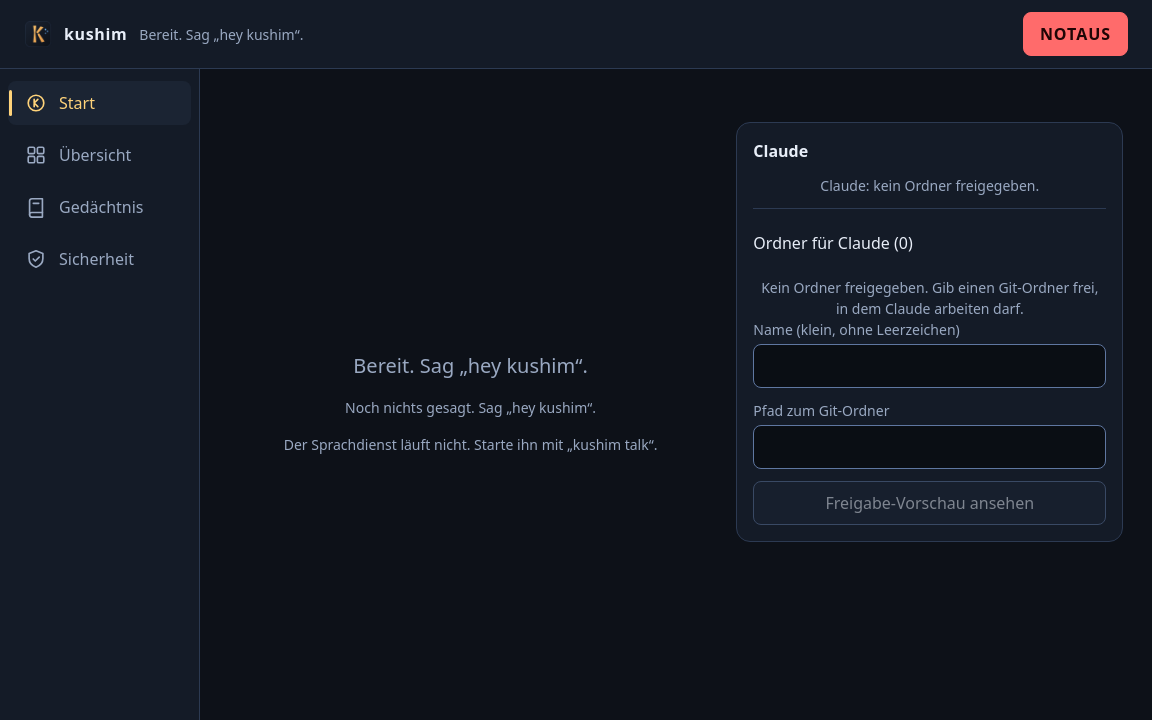
Scenario: Sicherheitsstatus › zeigt jeden Punkt mit Wort: Modus A, Geldlimit 0, Notaus bereit, Sicherung
This screenshot has width=1152, height=720.
Click the button "Sicherheit": click(100, 259) [8, 237, 191, 281]
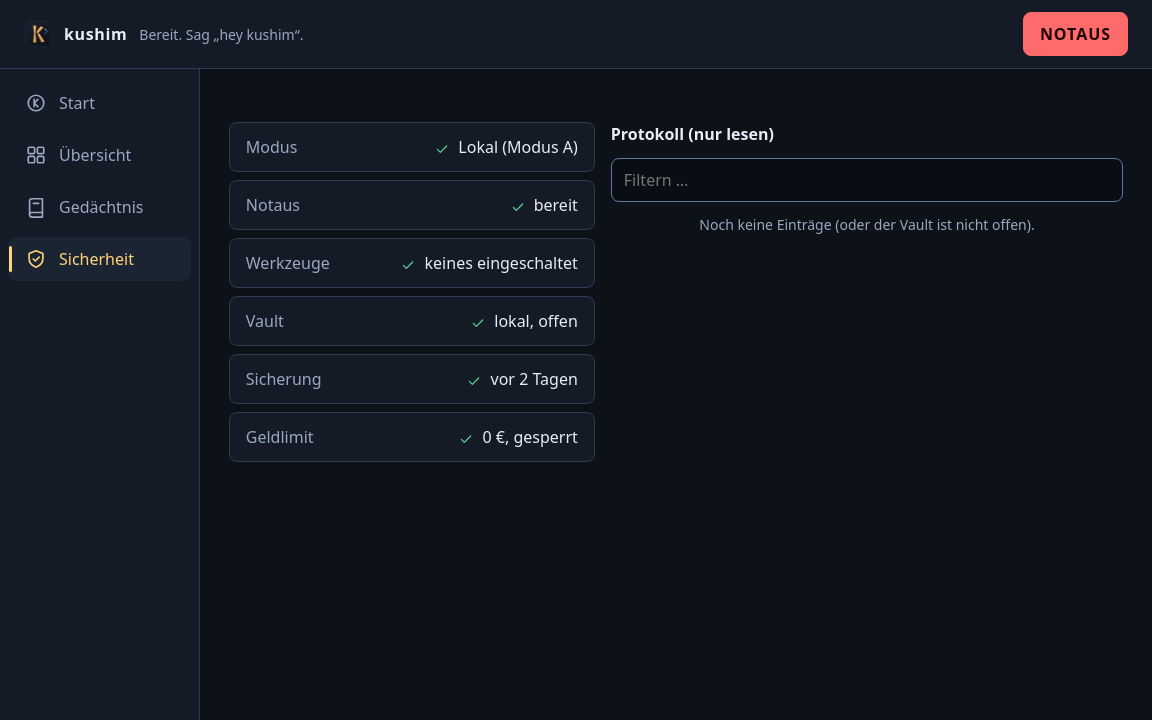
Result: the element named "Sicherheitsstatus" is shown at [229, 122, 1123, 462]
Result: the text "Lokal (Modus A)" is shown at [434, 135, 578, 159]
Result: the text "0 €, gesperrt" is shown at [458, 425, 578, 449]
